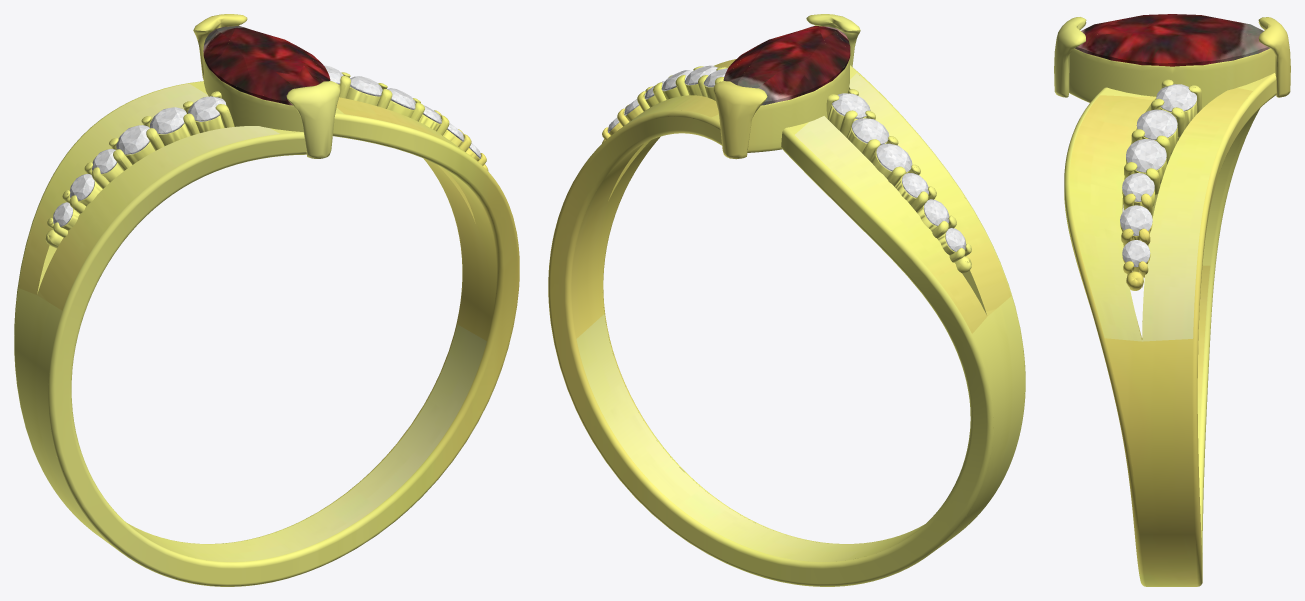
File: ring12.glb
The picture shows the model from 3 angles, left to right: view 1: azimuth 30°, elevation 25°; view 2: azimuth 150°, elevation 25°; view 3: azimuth 270°, elevation 25°; orthographic projection. The views are drawn at different scales.
Parts seen in each view (by area): view 1: body, core1, diamond; view 2: body, core1, diamond; view 3: body, core1, diamond.
Boxes of the visible parts, x1,y1,x2,y2 form: body: (14,14,519,586); core1: (203,26,330,105); diamond: (53,65,480,226); body: (548,14,1025,586); core1: (723,26,850,105); diamond: (608,65,965,251); body: (1054,17,1290,586); core1: (1075,14,1270,66); diamond: (1120,84,1196,267).
Bounding box in the file's own units: 20.1 × 21.86 × 8.74.
Materials: 3 (3 with a texture image).
